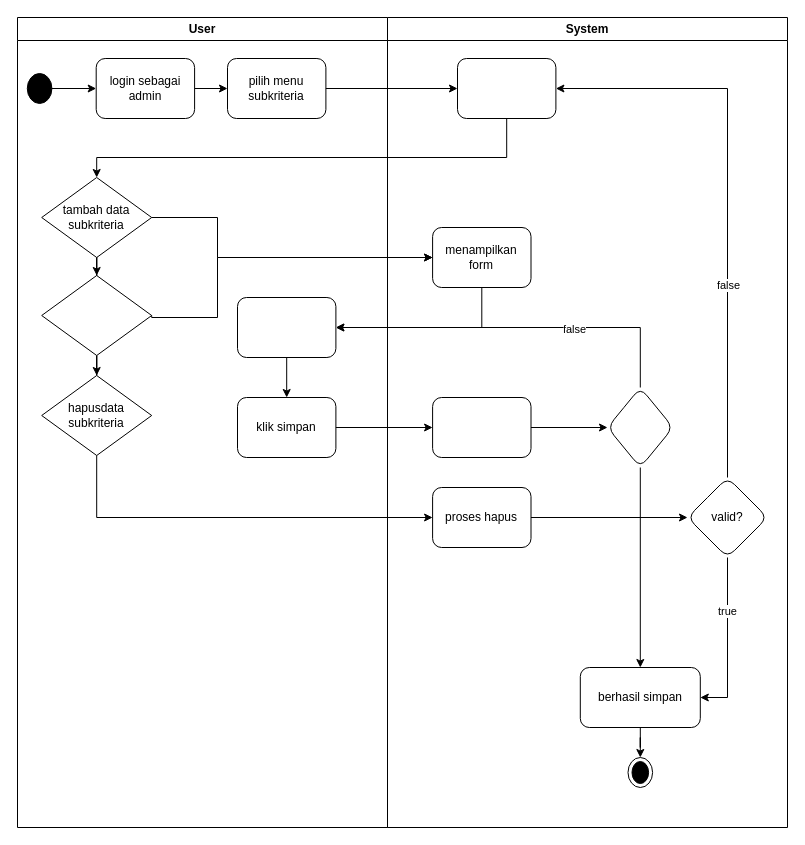
The diagram is 805 pixels wide and 845 high, and some of its shapes have lost their labels. The shapes that lost their labels are listed below. From the top down, each one's centre as x and y in pixels, then its label:
At (506,88): "menampilkan data subkriteria".
At (96,315): "edit data subkriteria".
At (286,327): "mengisi form".
At (481,427): "proses simpan".
At (639,427): "valid ?".
